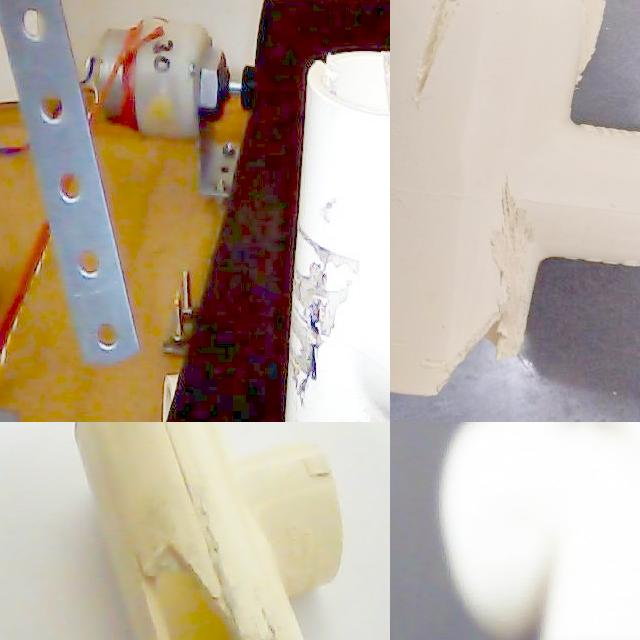Defective: (442, 162, 533, 396), (275, 189, 358, 422), (139, 543, 254, 640), (408, 0, 495, 121), (564, 0, 610, 107), (390, 264, 409, 384), (316, 47, 347, 111), (381, 38, 390, 136)
T Joint: (390, 0, 640, 400), (73, 422, 344, 640), (437, 422, 640, 640), (283, 52, 390, 422)
